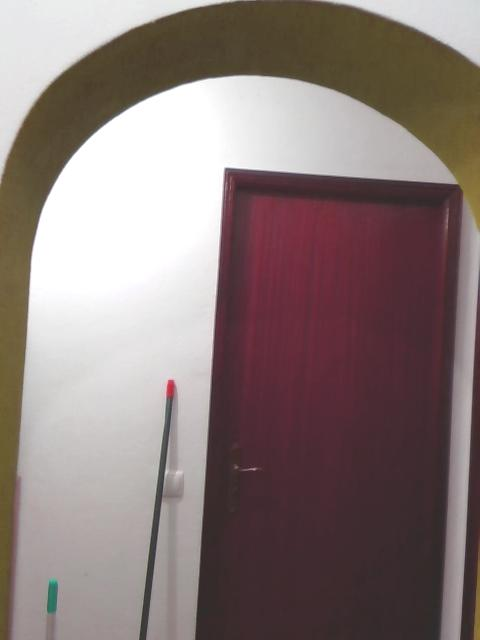closed_door: (196, 167, 462, 638)
